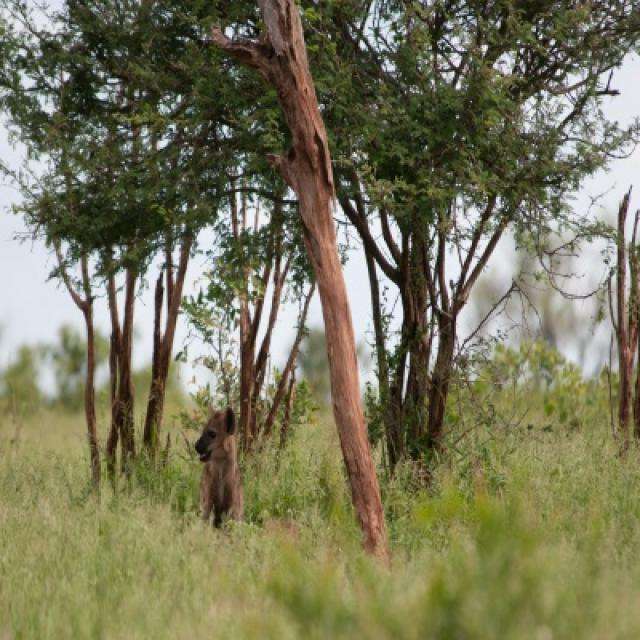hyena: (194, 410, 245, 530)
